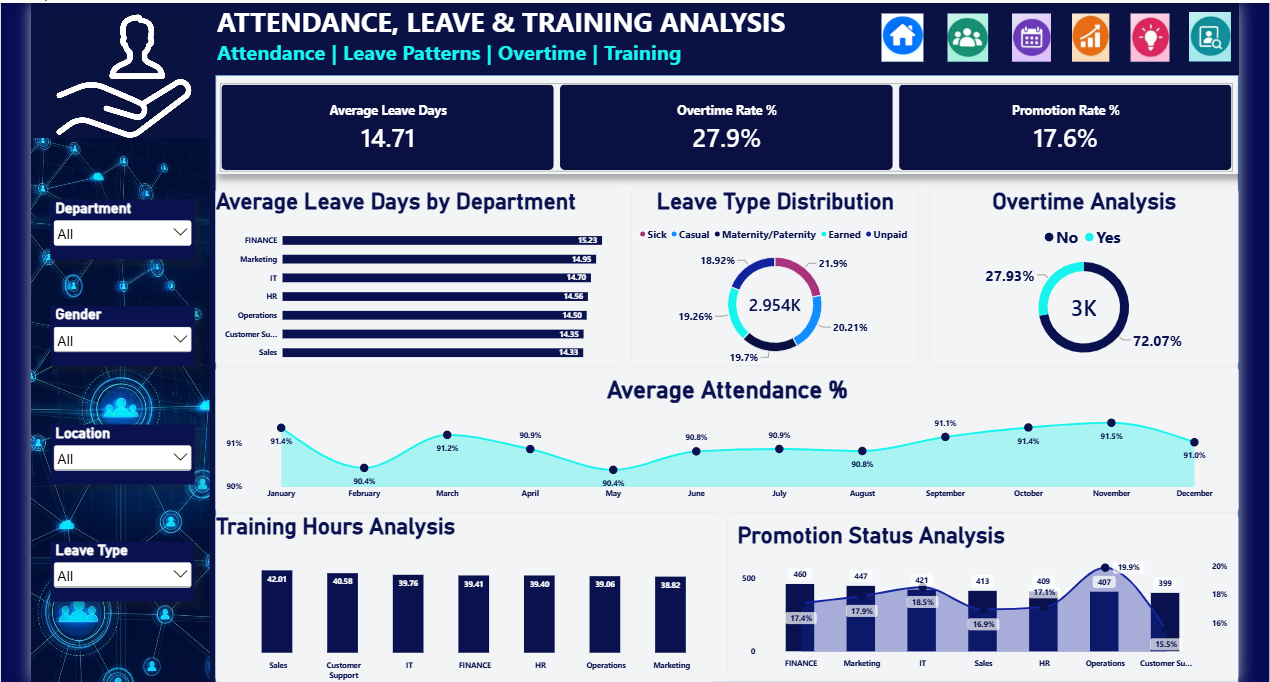

The dashboard page shown, as its layout file describes it:
{"tool":"powerbi","page":{"name":"Attendance, Leave & Training Analysis ","canvas":[1920,1080],"ordinal":3},"visuals":[{"type":"image","box":[0,214.7,283.9,866.1],"z":0},{"type":"shape","box":[293.5,114.5,1627.2,966.3],"z":1000},{"type":"textbox","box":[295.9,0,916.2,114.5],"z":2000},{"type":"cardVisual","fields":{"Data":["Avg(Final_HR_Data.Leave Days)","Measure Table.Overtime Rate%","Measure Table.Promotion Rate%"]},"box":[293.5,114.5,1627.2,157.5],"z":3000},{"type":"lineChart","title":"Average Attendance %","fields":{"Category":["Final_HR_Data.Joining Date.Variation.Date Hierarchy.Month"],"Y":["Measure Table.Average Attendence %"]},"box":[293.5,577.4,1627.2,233.8],"z":4000},{"type":"clusteredBarChart","title":"Average Leave Days by Department","fields":{"Category":["Final_HR_Data.Department"],"Y":["Avg(Final_HR_Data.Leave Days)"]},"box":[293.5,293.5,641.8,283.9],"z":5000},{"type":"columnChart","title":"Training Hours Analysis","fields":{"Category":["Final_HR_Data.Department"],"Y":["Avg(Final_HR_Data.Training Hours)"]},"box":[293.5,811.2,794.5,269.6],"z":6000},{"type":"lineClusteredColumnComboChart","title":"Promotion Status Analysis","fields":{"Category":["Final_HR_Data.Department"],"Y":["Count(Final_HR_Data.Employee ID)"],"Y2":["Measure Table.Promotion Rate%"]},"box":[1107.1,811.2,813.6,267.2],"z":7000},{"type":"slicer","fields":{"Values":["Final_HR_Data.Department"]},"box":[31,312.6,229,95.4],"z":8000},{"type":"slicer","fields":{"Values":["Final_HR_Data.Gender"]},"box":[31,482,229,95.4],"z":9000},{"type":"slicer","fields":{"Values":["Final_HR_Data.Location"]},"box":[31,670.4,229,95.4],"z":10000},{"type":"slicer","fields":{"Values":["Final_HR_Data.Leave Type"]},"box":[31,856.5,229,95.4],"z":11000},{"type":"donutChart","title":"Leave Type Distribution","fields":{"Category":["Final_HR_Data.Leave Type"],"Y":["Count(Final_HR_Data.Employee ID)"]},"box":[954.4,293.5,458.1,283.9],"z":12000},{"type":"donutChart","title":"Overtime Analysis","fields":{"Y":["Count(Final_HR_Data.Employee ID)"],"Category":["Final_HR_Data.Overtime"]},"box":[1429.2,293.5,491.5,283.9],"z":13000},{"type":"actionButton","box":[1352.8,16.7,66.8,76.3],"z":14000},{"type":"actionButton","box":[1457.8,16.7,64.4,76.3],"z":15000},{"type":"actionButton","box":[1560.4,16.7,62,76.3],"z":16000},{"type":"actionButton","box":[1655.8,16.7,59.6,76.3],"z":17000},{"type":"actionButton","box":[1748.9,16.7,62,76.3],"z":18000},{"type":"actionButton","box":[1841.9,14.3,66.8,78.7],"z":19000},{"type":"image","box":[31,16.7,229,198],"z":20000}]}

Visuals, with their boxes on the page's 1920x1080 design canvas (x1, y1, x2, y2). These are canvas units, not pixel positions in the 1270x682 screenshot, which may show the page scaled, cropped or inside an application window:
image: x1=0 y1=215 x2=284 y2=1081
shape: x1=294 y1=114 x2=1921 y2=1081
textbox: x1=296 y1=0 x2=1212 y2=114
cardVisual - Avg(Final_HR_Data.Leave Days) x Measure Table.Overtime Rate%: x1=294 y1=114 x2=1921 y2=272
"Average Attendance %" lineChart: x1=294 y1=577 x2=1921 y2=811
"Average Leave Days by Department" clusteredBarChart: x1=294 y1=294 x2=935 y2=577
"Training Hours Analysis" columnChart: x1=294 y1=811 x2=1088 y2=1081
"Promotion Status Analysis" lineClusteredColumnComboChart: x1=1107 y1=811 x2=1921 y2=1078
slicer - Final_HR_Data.Department: x1=31 y1=313 x2=260 y2=408
slicer - Final_HR_Data.Gender: x1=31 y1=482 x2=260 y2=577
slicer - Final_HR_Data.Location: x1=31 y1=670 x2=260 y2=766
slicer - Final_HR_Data.Leave Type: x1=31 y1=856 x2=260 y2=952
"Leave Type Distribution" donutChart: x1=954 y1=294 x2=1412 y2=577
"Overtime Analysis" donutChart: x1=1429 y1=294 x2=1921 y2=577
actionButton: x1=1353 y1=17 x2=1420 y2=93
actionButton: x1=1458 y1=17 x2=1522 y2=93
actionButton: x1=1560 y1=17 x2=1622 y2=93
actionButton: x1=1656 y1=17 x2=1715 y2=93
actionButton: x1=1749 y1=17 x2=1811 y2=93
actionButton: x1=1842 y1=14 x2=1909 y2=93
image: x1=31 y1=17 x2=260 y2=215
